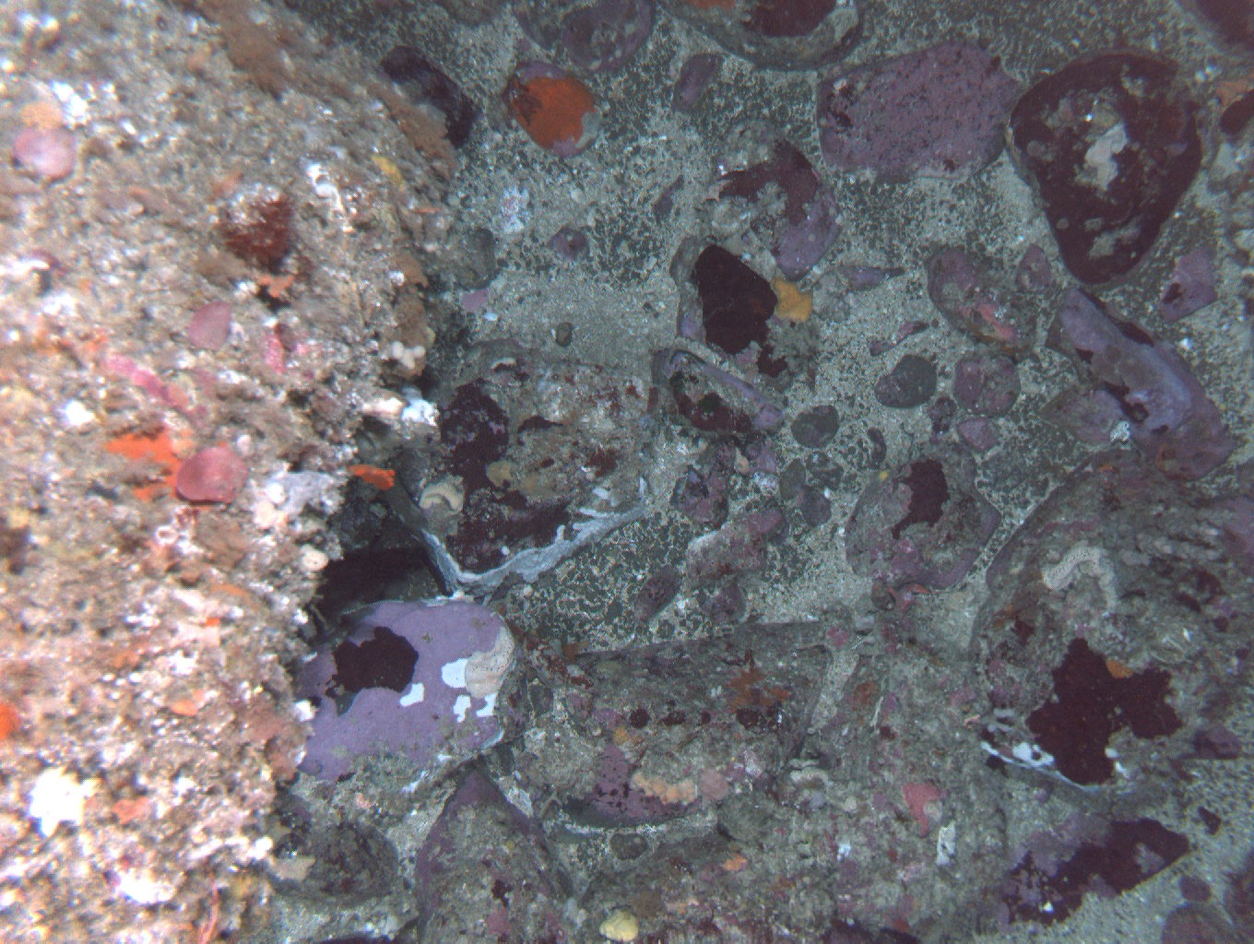Brachionichthyidae: (884, 582, 933, 614)
